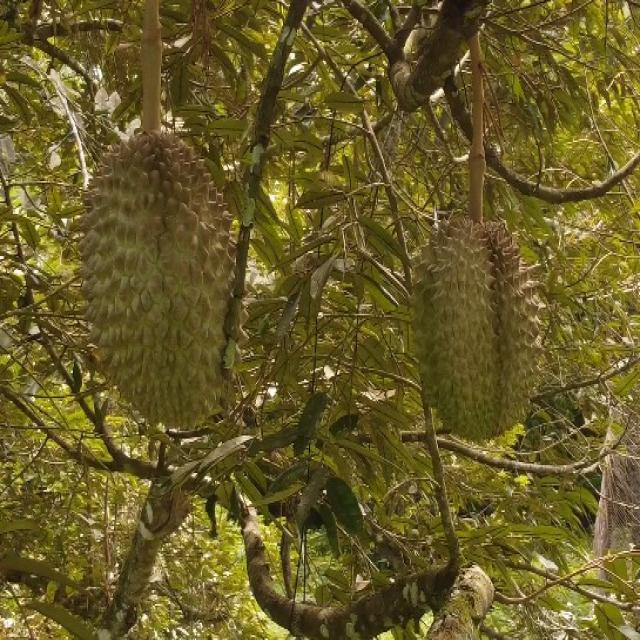mature: (75, 132, 241, 424), (410, 210, 551, 446)
